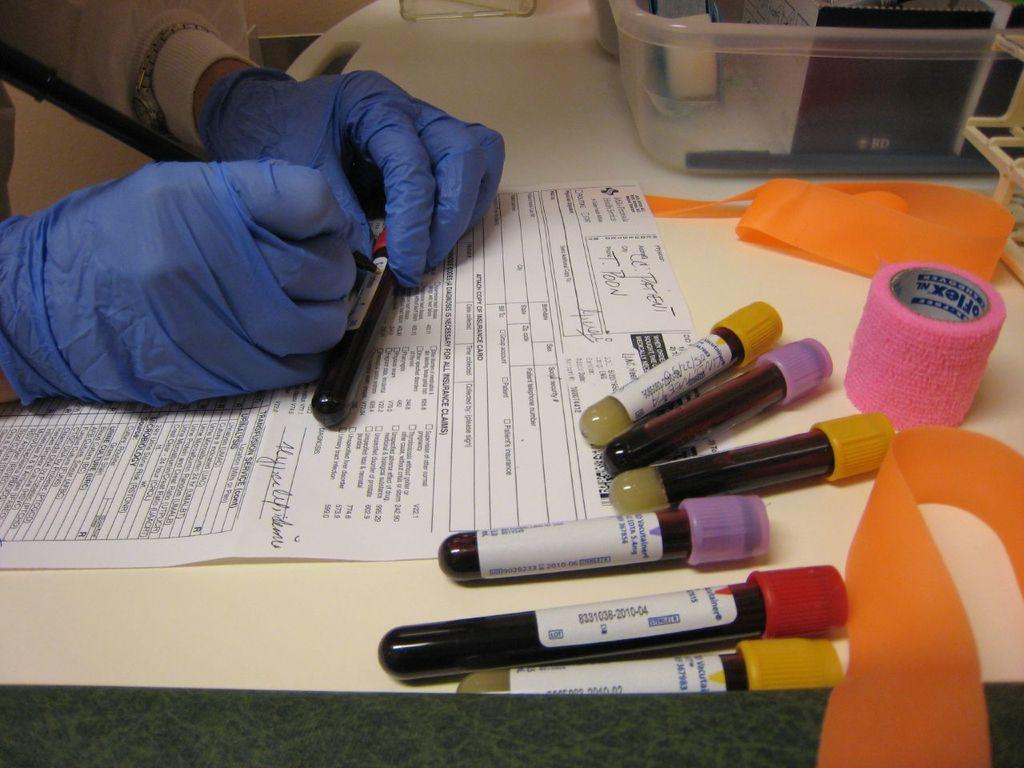pen: (0, 45, 379, 277)
